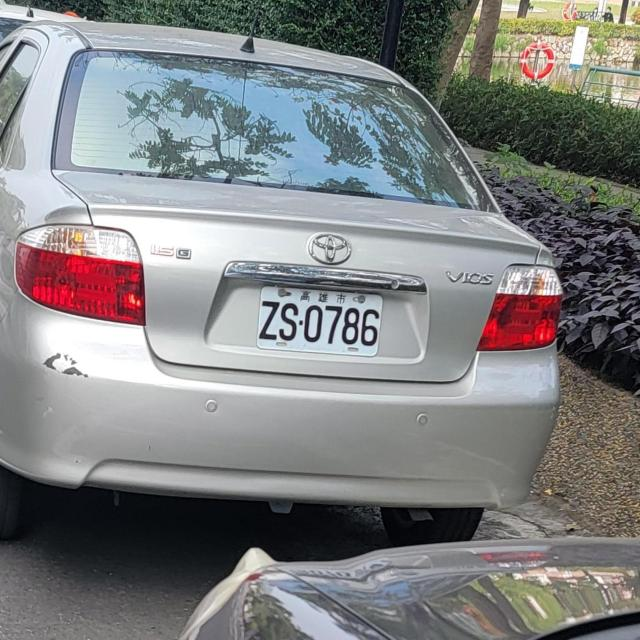W: (253, 282, 384, 360)
